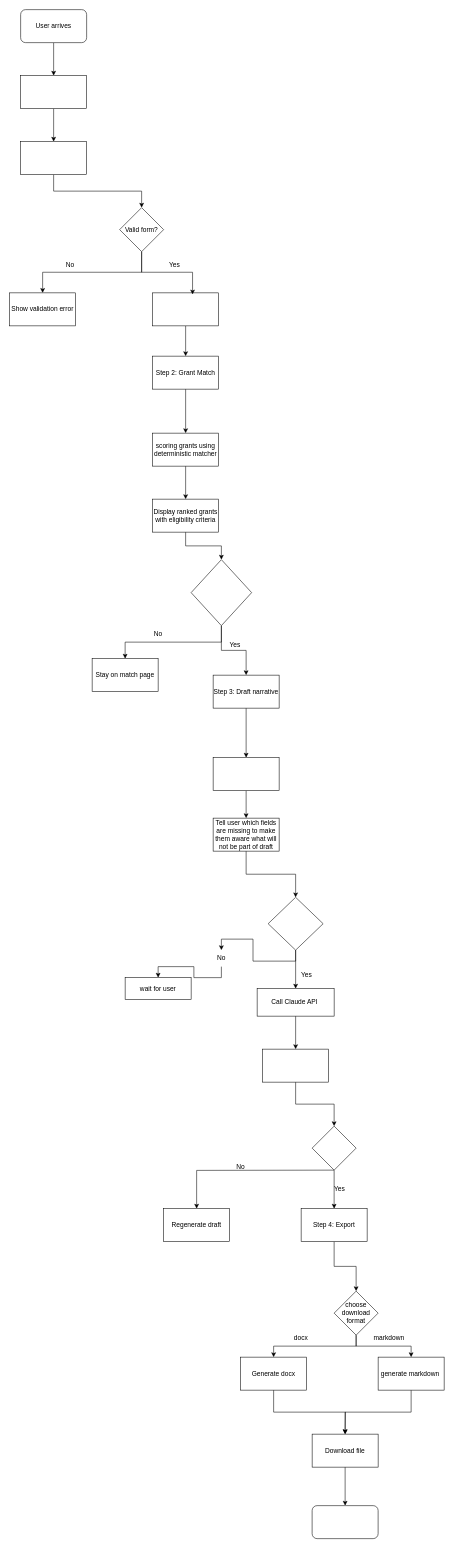
Some shapes in this 454 by 1548 pixel diagram are drawn without their labels. The shapes that lost their labels are listed below. From the top down, each one's centre as x and y in pixels, then its label:
(53,92): Step 1: Agency Profile
(53,158): Fill out agency form
(185,309): Save profile to session state
(221,592): User selects a grant
(246,774): Build context using the values provided
(295,923): Generate draft
(295,1065): Display draft with highlighting true data in green
(334,1148): User happy?
(345,1522): END
